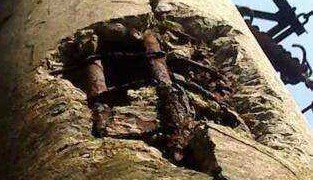Exposed reinforcement: (142, 27, 194, 162), (85, 53, 112, 134), (172, 76, 234, 110), (171, 53, 227, 81), (86, 78, 141, 104), (87, 50, 168, 62), (104, 126, 161, 141)
Spalling: (35, 1, 282, 180)
